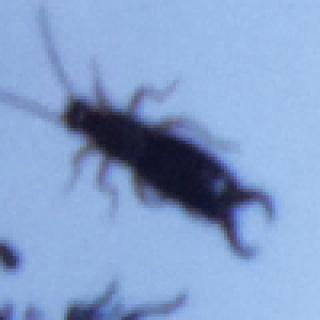earwig: (0, 5, 277, 262)
